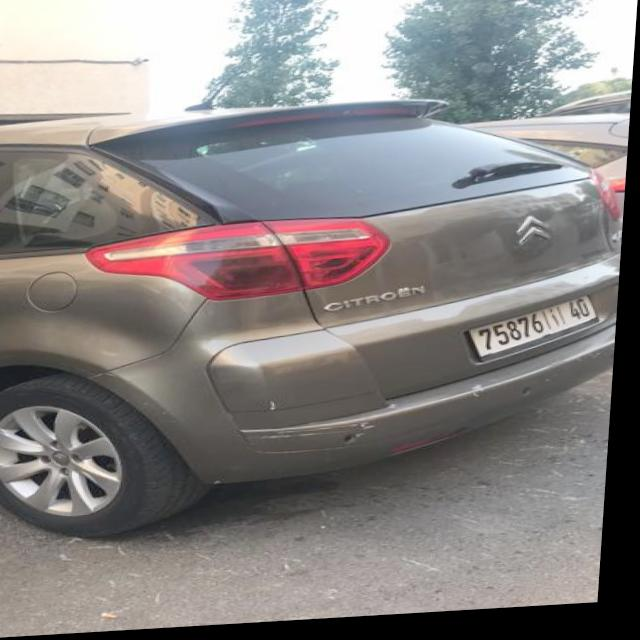License-Plate: (475, 304, 602, 363)
